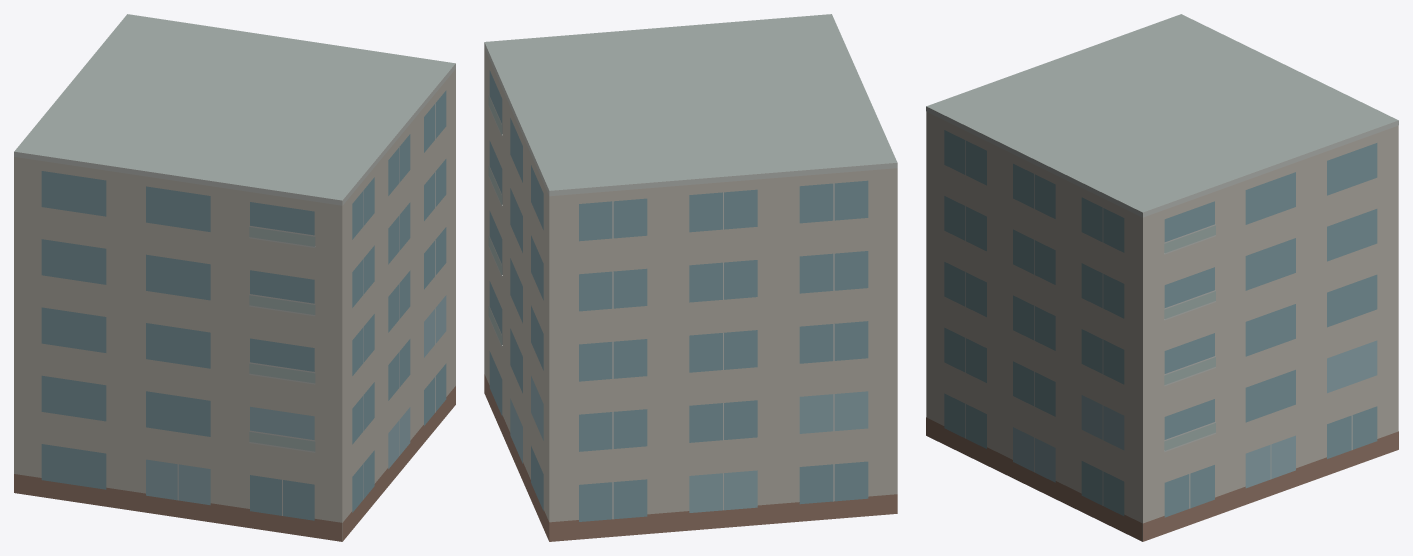
Rendered from survey-upis-33033739.glb.
3 views of the same model, side by side, from view 1: azimuth 30°, elevation 25°; view 2: azimuth 150°, elevation 25°; view 3: azimuth 270°, elevation 25° (orthographic). The views are drawn at different scales.
Visible parts, largest first — view 1: survey-upis-33033739.tmp; view 2: survey-upis-33033739.tmp; view 3: survey-upis-33033739.tmp.
Boxes of the visible parts, left/top/right/bottom form: survey-upis-33033739.tmp: left=14, top=14, right=455, bottom=541; survey-upis-33033739.tmp: left=484, top=14, right=897, bottom=541; survey-upis-33033739.tmp: left=926, top=14, right=1398, bottom=541.
Bounding box in the file's own units: 20.5 × 15.85 × 20.62.
